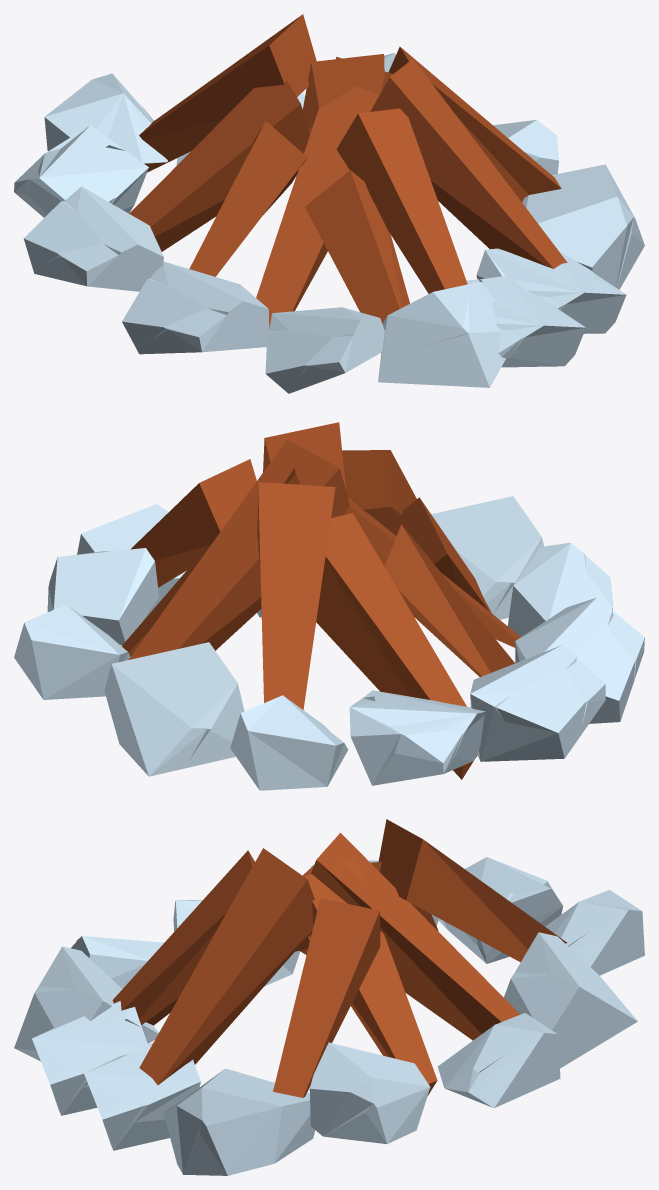
Rendered from Fire.fbx.
The picture shows the model from 3 angles, top to bottom: view 1: azimuth 30°, elevation 25°; view 2: azimuth 150°, elevation 25°; view 3: azimuth 270°, elevation 25°; orthographic projection. The views are drawn at different scales.
Parts seen in each view (by area): view 1: Fire; view 2: Fire; view 3: Fire.
Part boxes in pixels (x1=…): Fire: x1=14, y1=14, x2=644, y2=393; Fire: x1=14, y1=422, x2=644, y2=790; Fire: x1=14, y1=819, x2=644, y2=1175.
Size of the model in its own units: 201 by 90.21 by 212.
